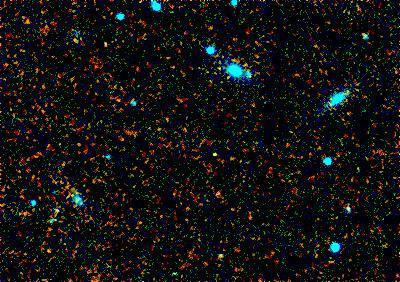star: (199, 134, 229, 164)
